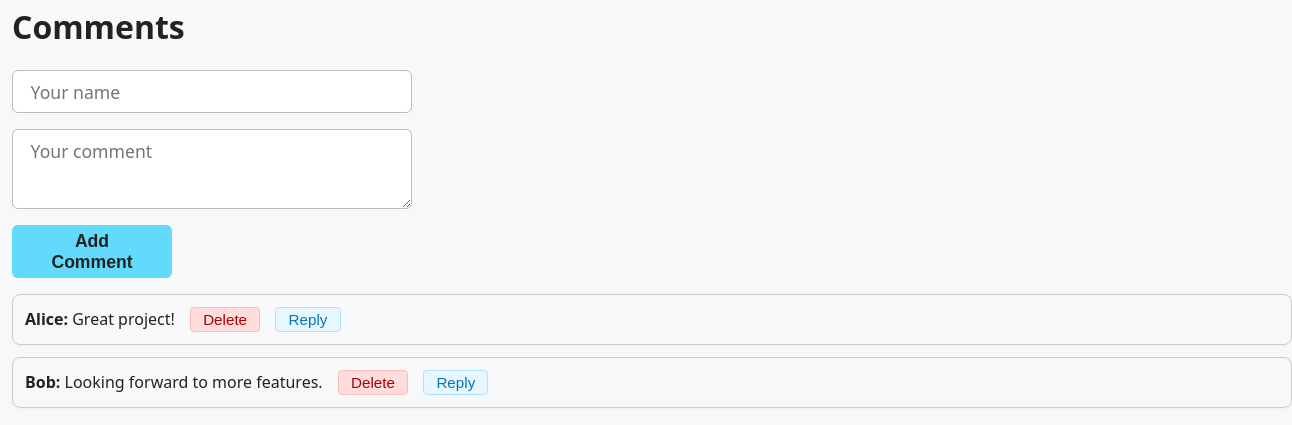
Test case: allows a comment to be deleted after confirming
Click the button "Delete" in the row of "Alice": (225, 320) [190,307,260,332]
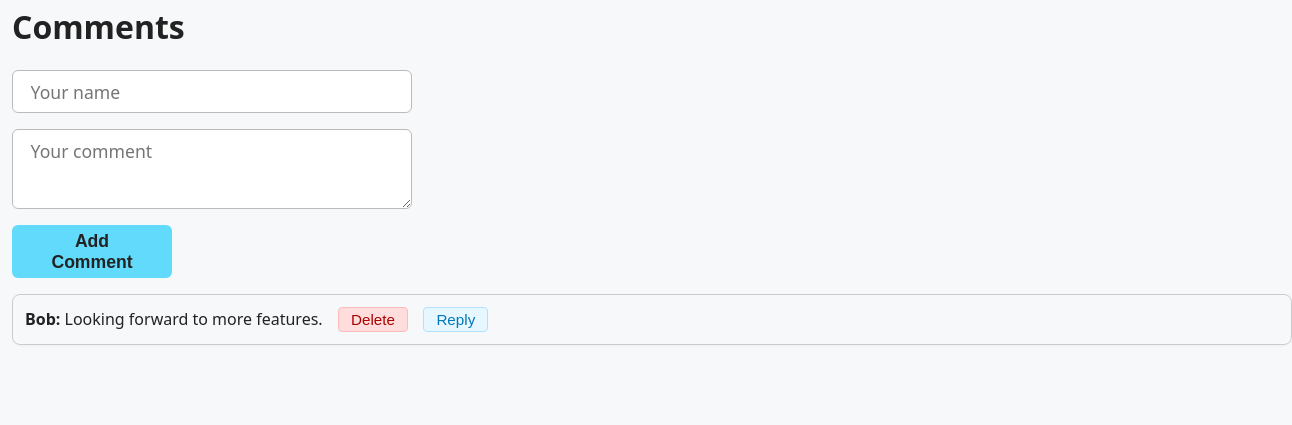
Expected: the text "Alice:" is gone
